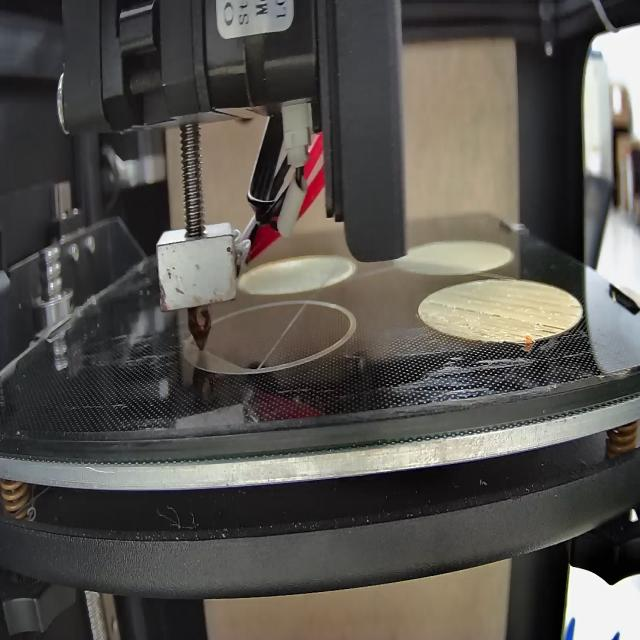under_extrusion: (434, 302, 501, 320), (529, 320, 566, 344), (567, 302, 583, 312)
